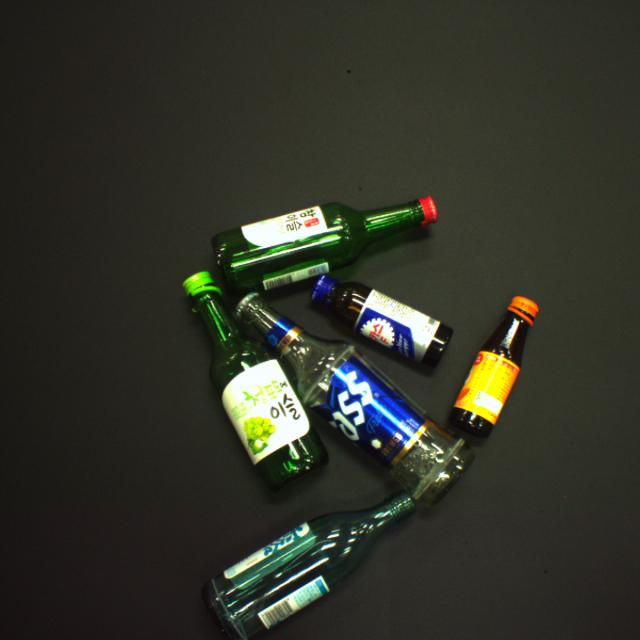beer-bottle: (236, 292, 475, 506)
soju-bottle: (183, 272, 330, 492), (203, 490, 417, 639), (212, 196, 439, 294)
